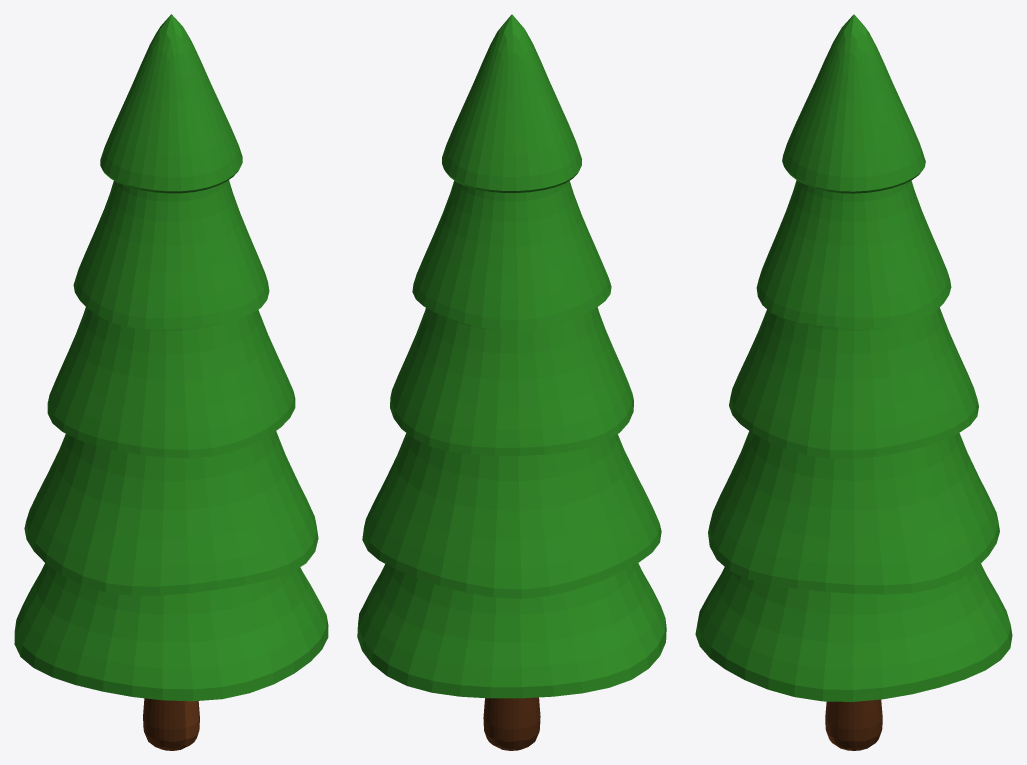
File: tree.fbx
3 renders of one model, left to right at view 1: azimuth 30°, elevation 25°; view 2: azimuth 150°, elevation 25°; view 3: azimuth 270°, elevation 25°, orthographic.
Visible parts, largest first — view 1: Cylinder; view 2: Cylinder; view 3: Cylinder.
Part boxes in pixels (bbox=[...]): Cylinder: bbox=[14, 14, 328, 750]; Cylinder: bbox=[357, 14, 666, 750]; Cylinder: bbox=[695, 14, 1012, 750].
Size of the model in its own units: 461 by 1177 by 461.
